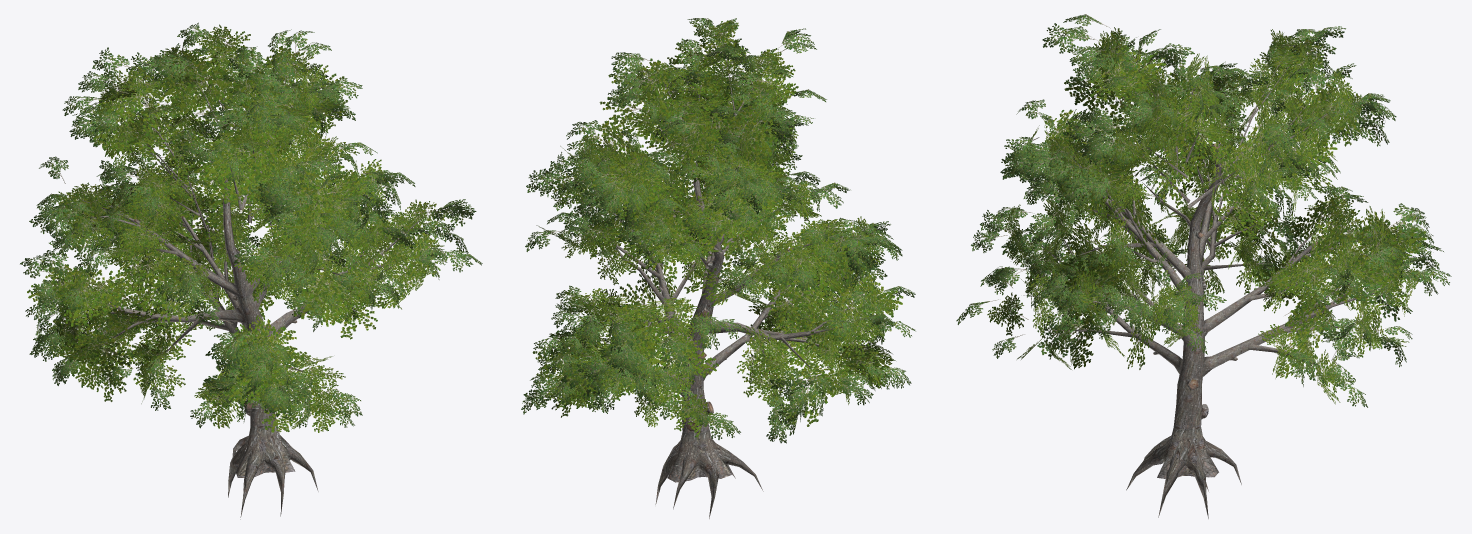
The model's file is oak-detailed.glb.
The picture shows the model from 3 angles, left to right: view 1: azimuth 30°, elevation 25°; view 2: azimuth 150°, elevation 25°; view 3: azimuth 270°, elevation 25°; orthographic projection. The views are drawn at different scales.
Parts seen in each view (by area): view 1: Broadleaf tree; view 2: Broadleaf tree; view 3: Broadleaf tree.
Boxes of the visible parts, bbox=[...] form: Broadleaf tree: bbox=[20, 22, 482, 519]; Broadleaf tree: bbox=[521, 18, 915, 518]; Broadleaf tree: bbox=[956, 14, 1451, 518].
Size of the model in its own units: 9.45 by 10 by 9.5.
Materials: 2 (2 with a texture image).
